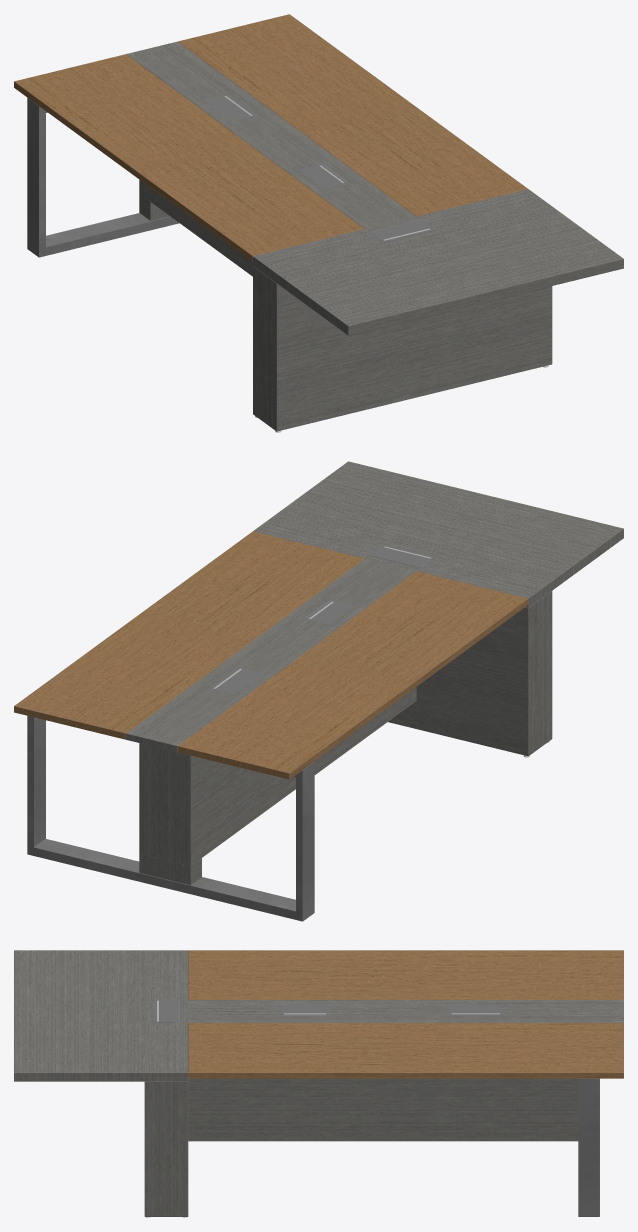
The model's file is ester3dmasa.glb.
The picture shows the model from 3 angles, top to bottom: view 1: azimuth 30°, elevation 25°; view 2: azimuth 150°, elevation 25°; view 3: azimuth 270°, elevation 25°; orthographic projection. The views are drawn at different scales.
Parts seen in each view (by area): view 1: ASSET_Joined; view 2: ASSET_Joined; view 3: ASSET_Joined.
Part boxes in pixels (x1,y1,x2,y2): ASSET_Joined: [14, 14, 623, 432]; ASSET_Joined: [14, 461, 623, 921]; ASSET_Joined: [14, 950, 623, 1217].
Bounding box in the file's own units: 1.33 × 0.7411 × 2.8.
Materials: 1 (1 with a texture image).
